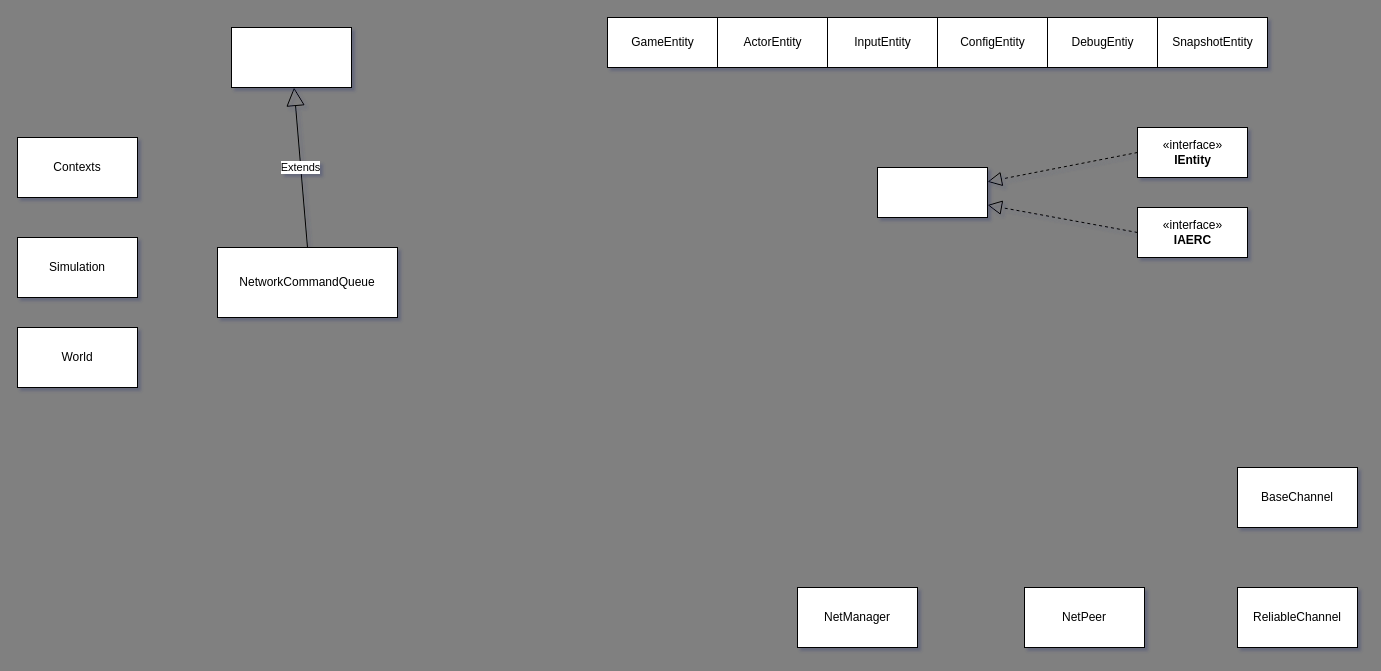
Some shapes in this 1381 by 671 pixel diagram are drawn without their labels. The centre of each missing label's shape, as x and y in pixels:
"CommandQueue" goes at point (291, 57).
"Entity" goes at point (932, 192).
